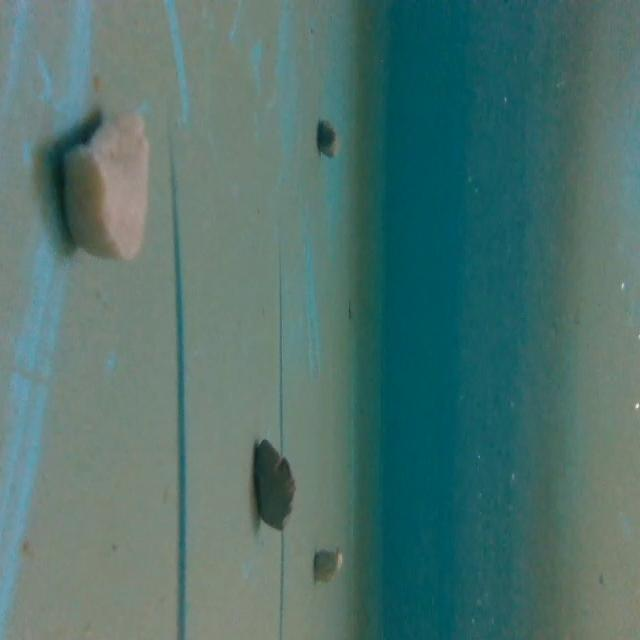rock: (51, 105, 158, 267), (250, 432, 297, 540), (309, 540, 344, 585), (314, 116, 343, 164)
